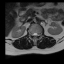CCS_normal: (34, 31, 36, 38)
LFS_normal: (38, 32, 39, 37)
LLS_normal: (36, 31, 37, 38)
RFS_stenosis: (31, 32, 32, 36)
RLS_normal: (32, 31, 34, 38)
